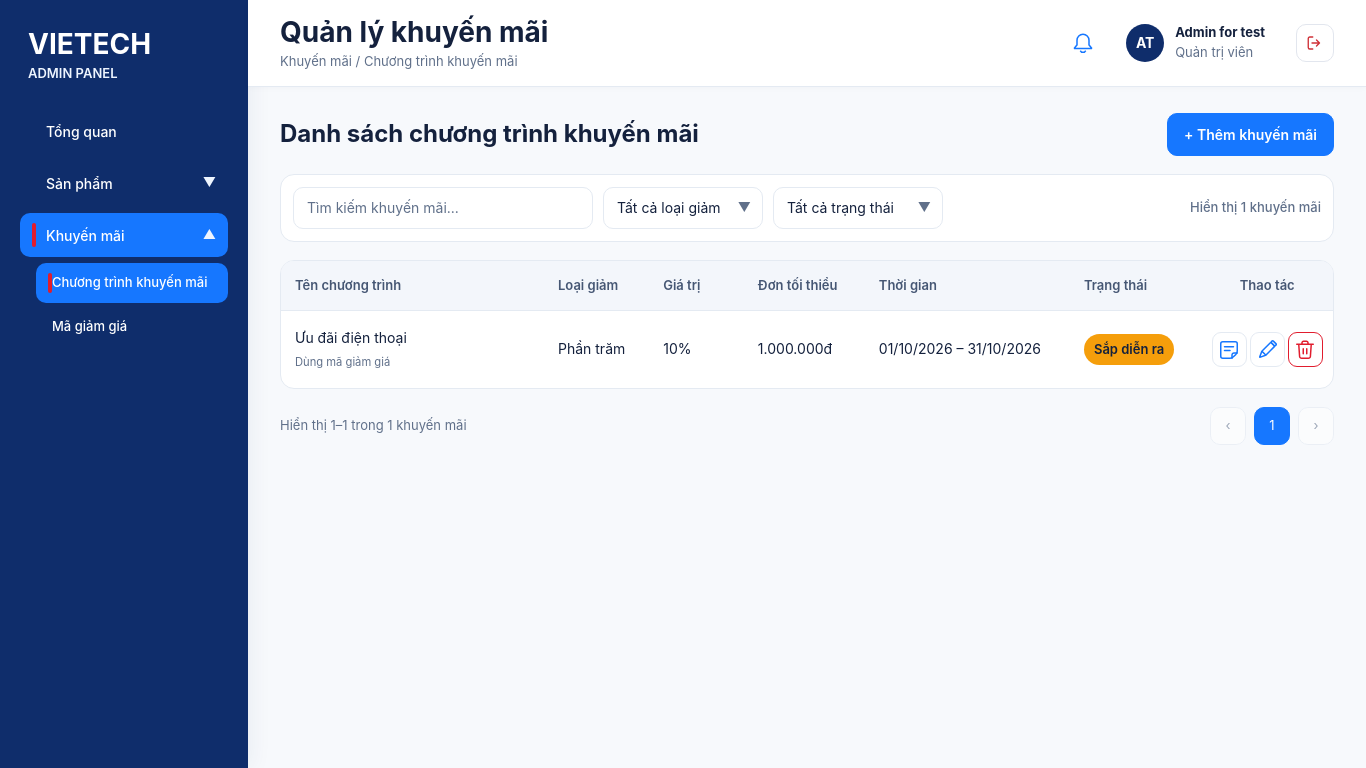
it: detail button reads real terms and parent product names without any coupon requests
The width and height of the screenshot is (1366, 768).
What coordinates should you click on to do the following:
click the button named "Chi tiết Ưu đãi điện thoại"
I would click on:
 (1229, 350)
Its box is [1212,332,1247,367].
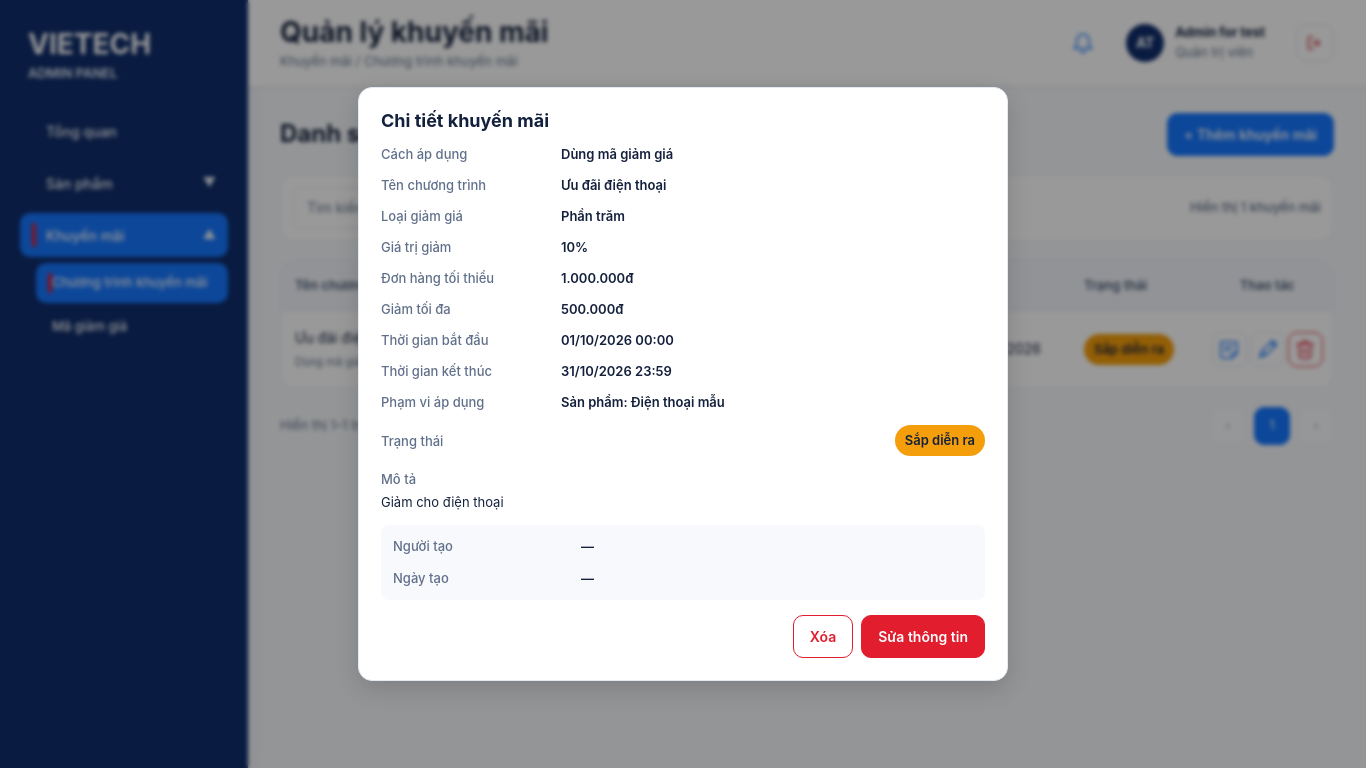
Expected: the text "Điện thoại mẫu" is shown, [631,394,725,410]
Expected: the text "500.000đ" is shown, [561,301,623,317]
Expected: the text "Giảm cho điện thoại" is shown, [381,494,504,510]
